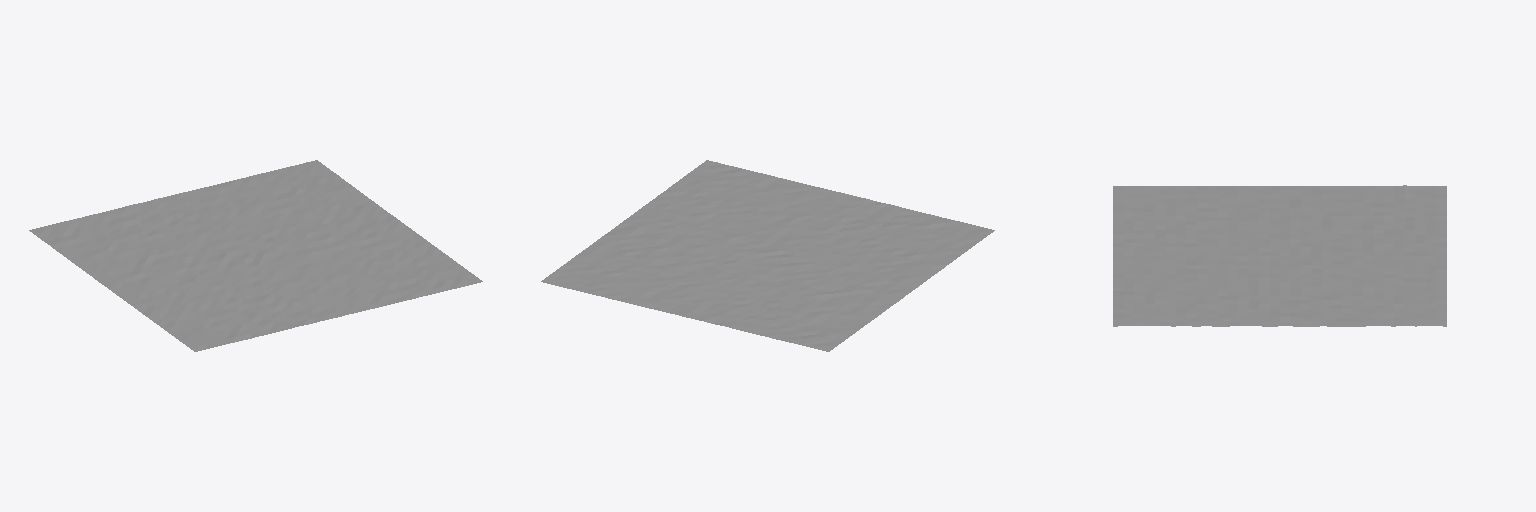
The model's file is grass.obj.
The picture shows the model from 3 angles: view 1: azimuth 30°, elevation 25°; view 2: azimuth 150°, elevation 25°; view 3: azimuth 270°, elevation 25°; orthographic projection.
Parts seen in each view (by area): view 1: Plane.001_Plane.015; view 2: Plane.001_Plane.015; view 3: Plane.001_Plane.015.
Part boxes in pixels (x1,y1,x2,y2): Plane.001_Plane.015: (29, 160, 482, 351); Plane.001_Plane.015: (541, 160, 994, 351); Plane.001_Plane.015: (1113, 185, 1446, 326).
Size of the model in its own units: 40 by 0.0878 by 40.